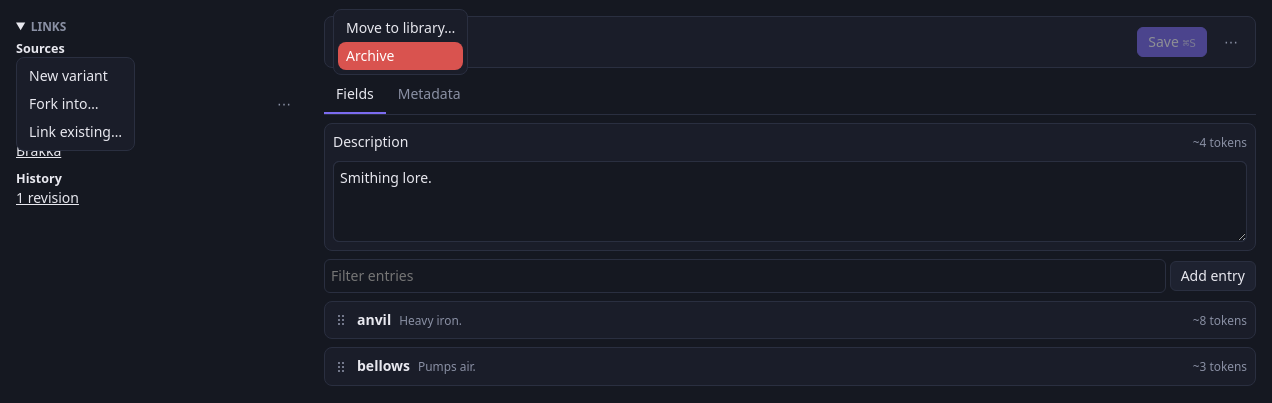
Test: rows show keys and the first line, and the filter narrows them
Expected: the text "anvil" is shown, left=357, top=310, right=391, bottom=330
Expected: the text "Heavy iron." is shown, left=399, top=312, right=462, bottom=329
Type "air" into the search field labelled "Filter entries" at [745, 276], box left=324, top=259, right=1166, bottom=293
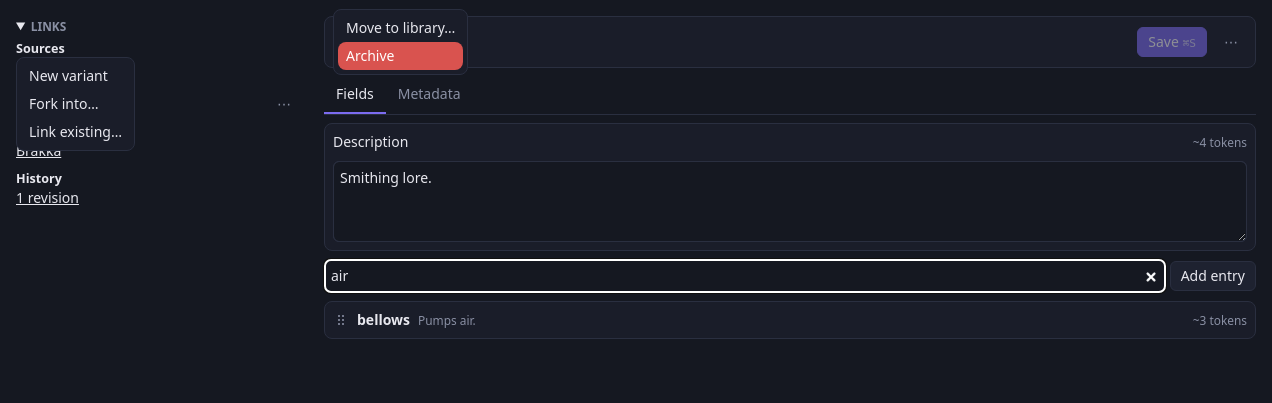
Expected: the text "Pumps air." is shown, left=418, top=312, right=476, bottom=329
Expected: the heading "Heavy iron." is gone
